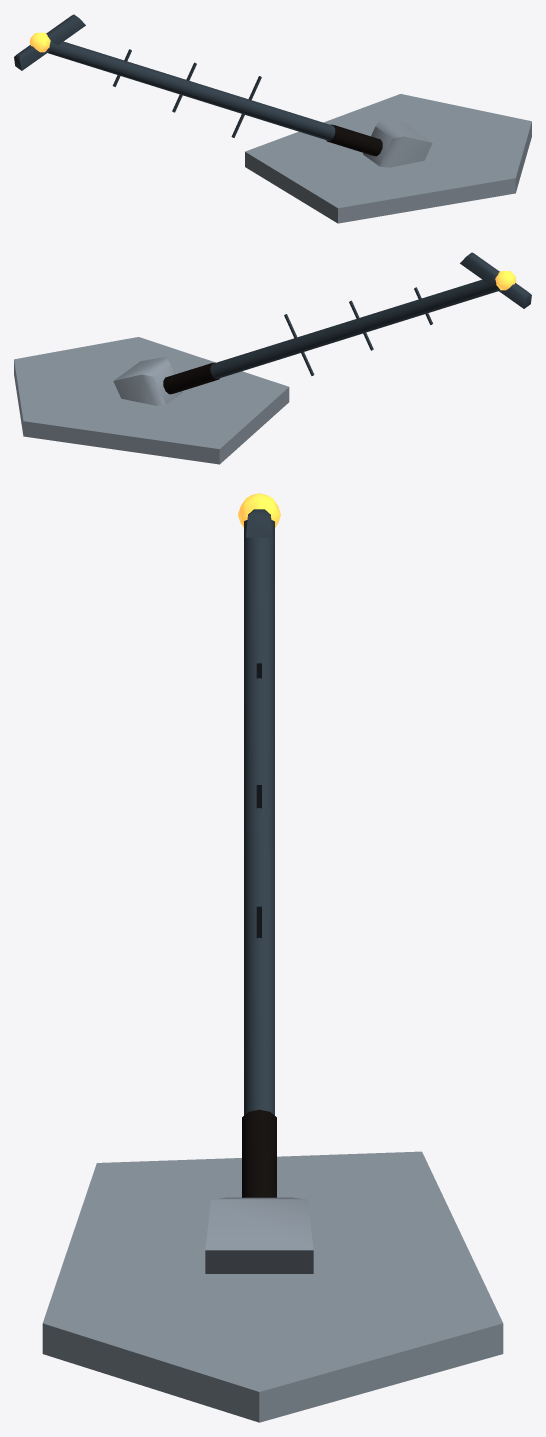
The model's file is debris_mast.glb.
3 views of the same model, one above another, from view 1: azimuth 30°, elevation 25°; view 2: azimuth 150°, elevation 25°; view 3: azimuth 270°, elevation 25° (orthographic). The views are drawn at different scales.
Parts seen in each view (by area): view 1: float_plate, mast_pole, mast_stump, radar_plate, mast_scorch, mast_cross, mast_ember; view 2: float_plate, mast_pole, mast_stump, radar_plate, mast_scorch, mast_cross, mast_ember; view 3: float_plate, mast_pole, mast_stump, mast_scorch.
Boxes of the visible parts, box(x1,y1,x2,y2) form: float_plate: box(245, 94, 531, 223); mast_pole: box(47, 41, 335, 140); mast_stump: box(363, 118, 432, 167); radar_plate: box(14, 14, 85, 70); mast_scorch: box(326, 124, 382, 156); mast_cross: box(112, 49, 261, 137); mast_ember: box(29, 32, 50, 52); float_plate: box(14, 337, 289, 464); mast_pole: box(210, 279, 498, 378); mast_stump: box(113, 356, 182, 405); radar_plate: box(460, 252, 531, 308); mast_scorch: box(163, 362, 219, 394); mast_cross: box(284, 287, 432, 375); mast_ember: box(495, 271, 516, 290); float_plate: box(42, 1151, 503, 1422); mast_pole: box(244, 520, 274, 1115); mast_stump: box(205, 1197, 313, 1273); mast_scorch: box(242, 1109, 276, 1197).
Size of the model in its own units: 8.78 by 3.98 by 3.4.
